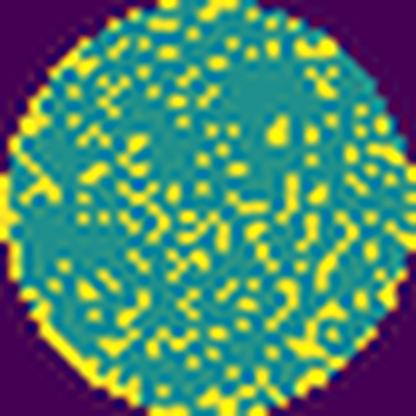Edge-Loc: (20, 282, 152, 408), (0, 166, 29, 293)
